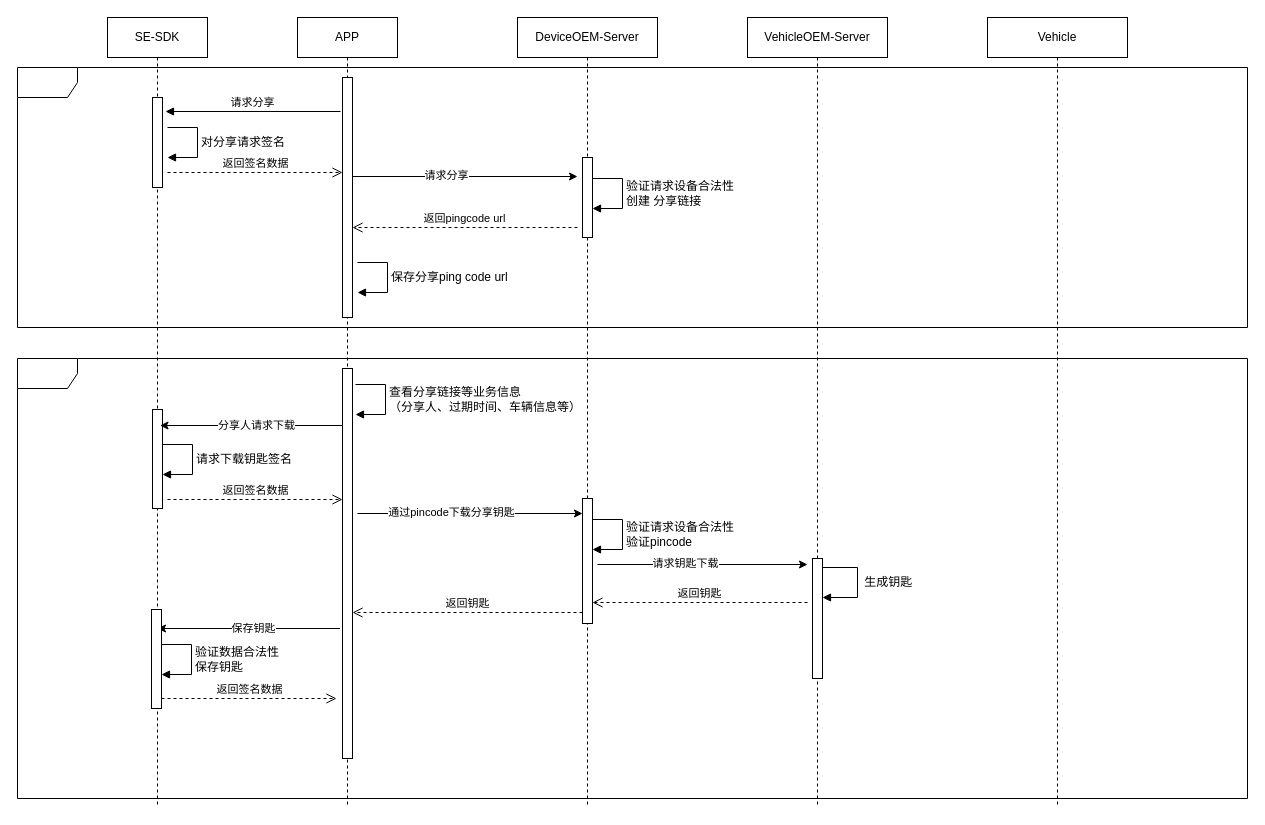
Image size: 1265x825. Some labels were removed from this diagram. The centre of each missing label's shape, as x and y in pixels:
下载dk: (x=632, y=578)
分享流程: (x=632, y=197)
